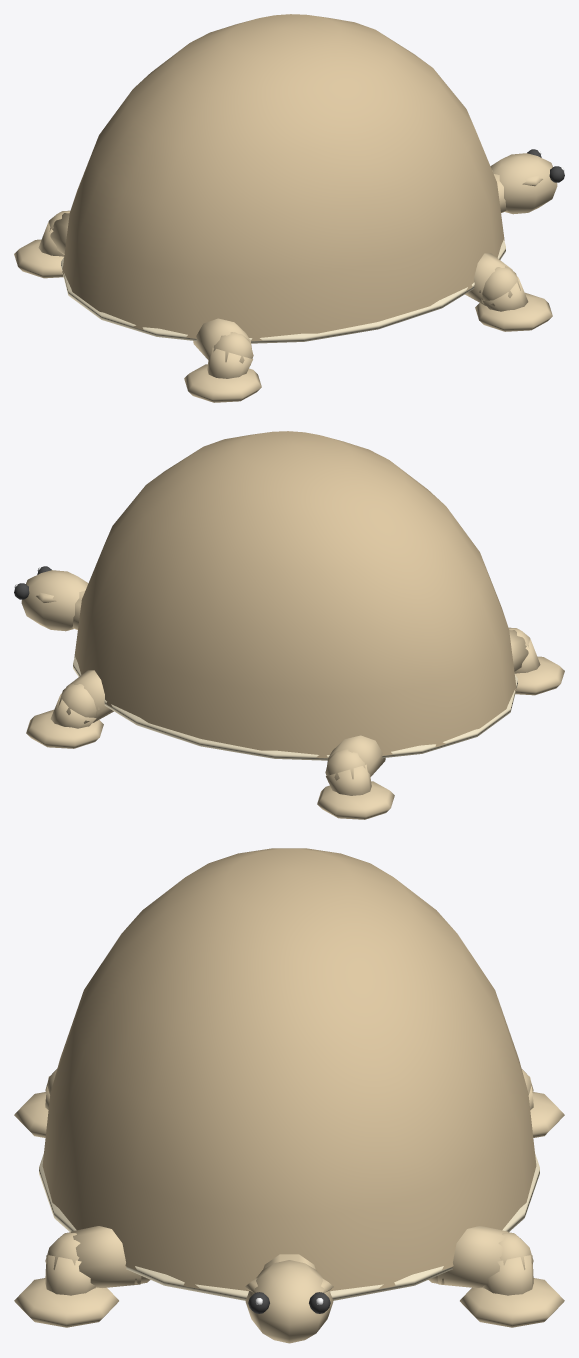
File: african-spurred-tortoise.glb
3 views of the same model, one above another, from view 1: azimuth 30°, elevation 25°; view 2: azimuth 150°, elevation 25°; view 3: azimuth 270°, elevation 25° (orthographic). The views are drawn at different scales.
Visible parts, largest first — view 1: e, e.019, e.009, e.001, e.024; view 2: e, e.024, e.014, e.001, e.019; view 3: e, e.014, e.009, e.001, e.024, e.019.
Boxes of the visible parts, x1=… form: e: x1=61, y1=14, x2=506, y2=343; e.019: x1=184, y1=318, x2=261, y2=402; e.009: x1=465, y1=253, x2=552, y2=331; e.001: x1=490, y1=149, x2=564, y2=214; e.024: x1=14, y1=210, x2=70, y2=278; e: x1=72, y1=431, x2=517, y2=760; e.024: x1=317, y1=735, x2=394, y2=819; e.014: x1=26, y1=670, x2=113, y2=748; e.001: x1=14, y1=566, x2=88, y2=631; e.019: x1=508, y1=627, x2=564, y2=695; e: x1=39, y1=848, x2=539, y2=1300; e.014: x1=428, y1=1226, x2=564, y2=1327; e.009: x1=14, y1=1226, x2=150, y2=1327; e.001: x1=245, y1=1260, x2=333, y2=1343; e.024: x1=522, y1=1069, x2=564, y2=1137; e.019: x1=14, y1=1069, x2=56, y2=1137.
Bounding box in the file's own units: 0.7775 × 0.4302 × 0.6012.
